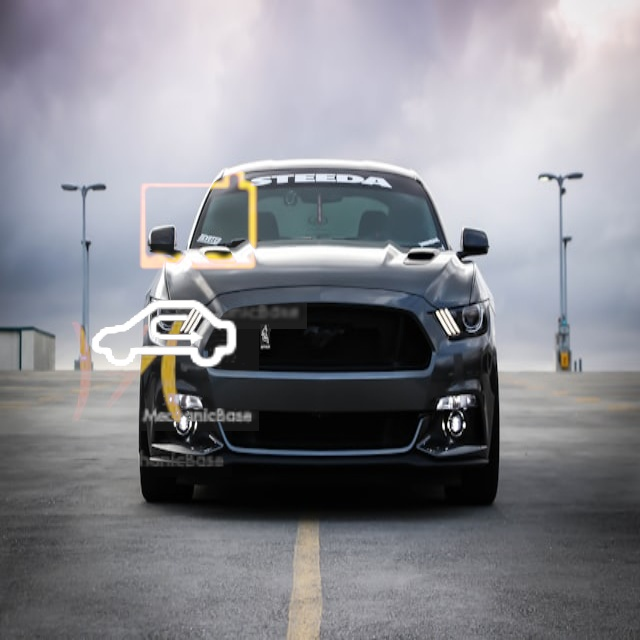symbol: (89, 111, 307, 329), (23, 268, 232, 477), (69, 241, 259, 431)
